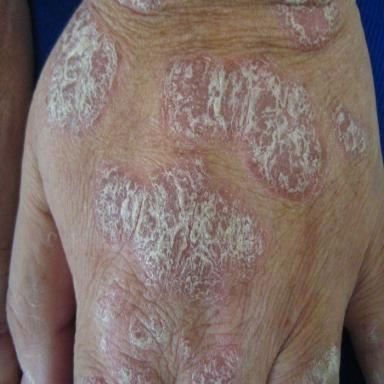Psoriasis: (95, 49, 326, 303), (47, 2, 119, 134), (271, 0, 340, 51), (331, 102, 370, 162), (191, 344, 239, 384), (118, 1, 168, 14)
